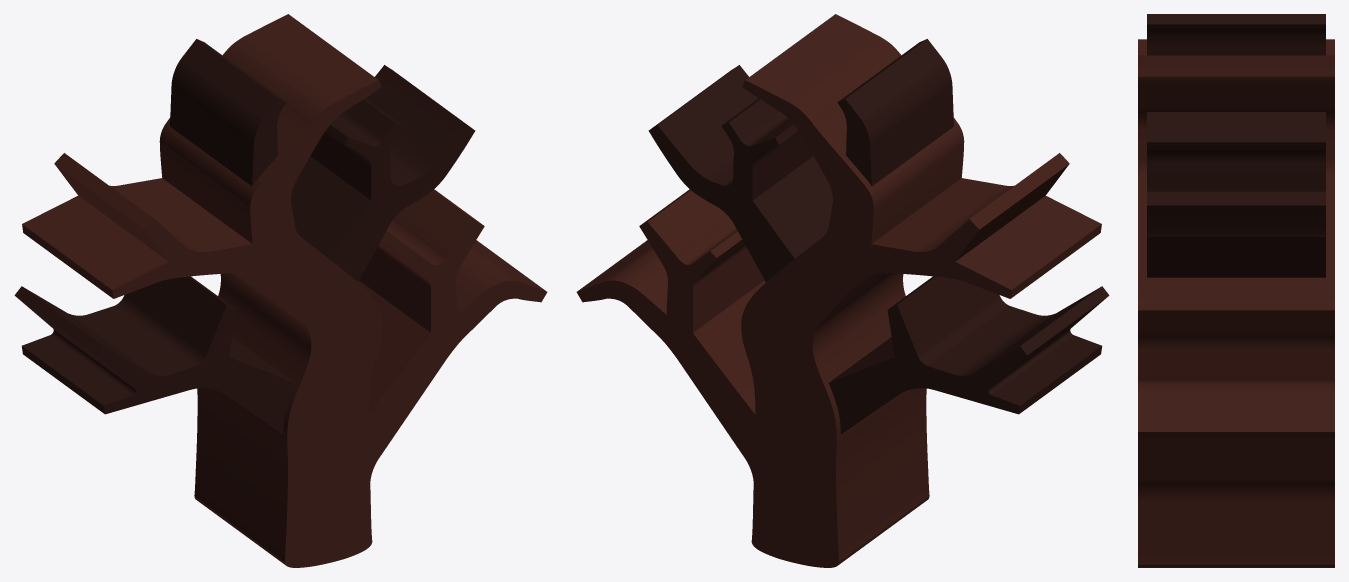
The model's file is U+1FABE.obj.
The picture shows the model from 3 angles, left to right: view 1: azimuth 30°, elevation 25°; view 2: azimuth 150°, elevation 25°; view 3: azimuth 270°, elevation 25°; orthographic projection. The views are drawn at different scales.
Parts seen in each view (by area): view 1: U+1FABE_layer01_obj00, U+1FABE_layer00_obj02, U+1FABE_layer00_obj00, U+1FABE_layer00_obj01; view 2: U+1FABE_layer01_obj00, U+1FABE_layer00_obj02, U+1FABE_layer00_obj00, U+1FABE_layer00_obj01; view 3: U+1FABE_layer01_obj00, U+1FABE_layer00_obj00, U+1FABE_layer00_obj01.
Boxes of the visible parts, left/top/right/bottom form: U+1FABE_layer01_obj00: left=22, top=14, right=547, bottom=567; U+1FABE_layer00_obj02: left=14, top=276, right=295, bottom=434; U+1FABE_layer00_obj00: left=291, top=65, right=475, bottom=281; U+1FABE_layer00_obj01: left=170, top=39, right=286, bottom=186; U+1FABE_layer01_obj00: left=576, top=14, right=1101, bottom=567; U+1FABE_layer00_obj02: left=828, top=276, right=1109, bottom=434; U+1FABE_layer00_obj00: left=648, top=65, right=832, bottom=281; U+1FABE_layer00_obj01: left=837, top=39, right=953, bottom=186; U+1FABE_layer01_obj00: left=1138, top=39, right=1334, bottom=567; U+1FABE_layer00_obj00: left=1147, top=112, right=1325, bottom=277; U+1FABE_layer00_obj01: left=1147, top=14, right=1325, bottom=55.
Bounding box in the file's own units: 0.3138 × 0.3172 × 0.11.
